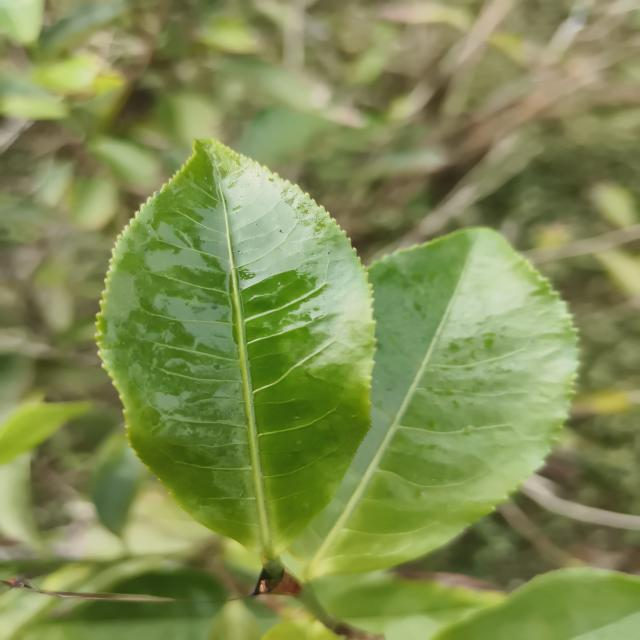Leaf: (97, 139, 374, 569), (290, 229, 576, 578), (432, 568, 640, 640), (314, 572, 504, 640), (234, 106, 328, 170), (91, 432, 146, 538)
